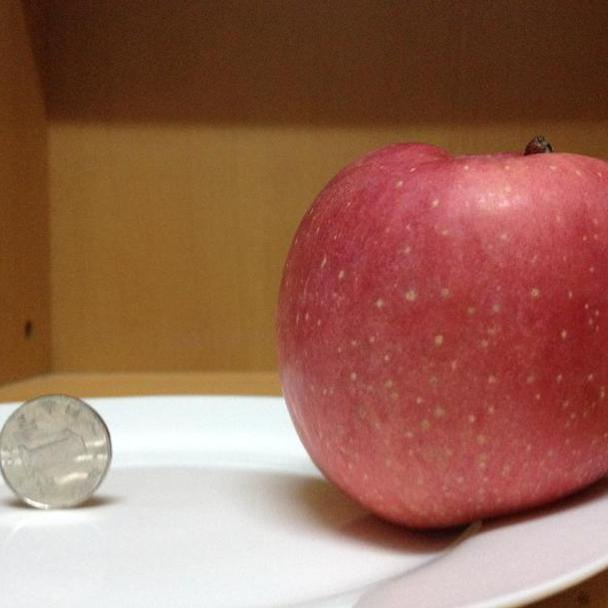apple: (276, 143, 608, 527)
